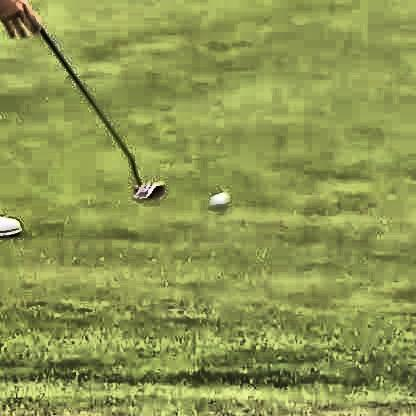golfball: (206, 187, 226, 207)
